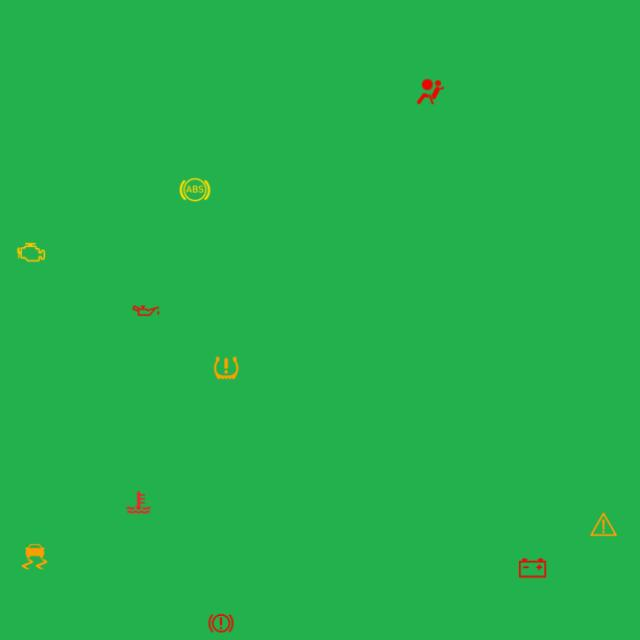Anti Lock Braking System: (178, 172, 212, 206)
Braking System Issue: (204, 606, 237, 640)
Charging System Issue: (516, 551, 550, 585)
Check Engine: (14, 235, 48, 269)
Electronic Stability Problem -ESP-: (18, 540, 52, 574)
Engine Overheating Warning Light: (122, 486, 156, 520)
Low Engine Oil Warning Light: (129, 294, 163, 328)
Low Tire Pressure Warning Light: (209, 351, 243, 385)
Master warning light: (586, 508, 620, 542)
SRS-Airbag: (413, 74, 448, 108)
